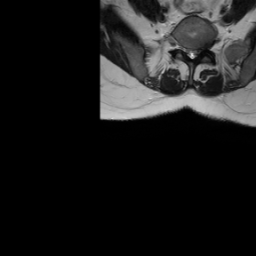CCS_severe_stenosis: (189, 43, 194, 63)
LFS_severe_stenosis: (200, 41, 206, 57)
LLS_normal: (195, 43, 200, 60)
RFS_stenosis: (179, 40, 184, 58)
RLS_normal: (184, 43, 189, 59)
